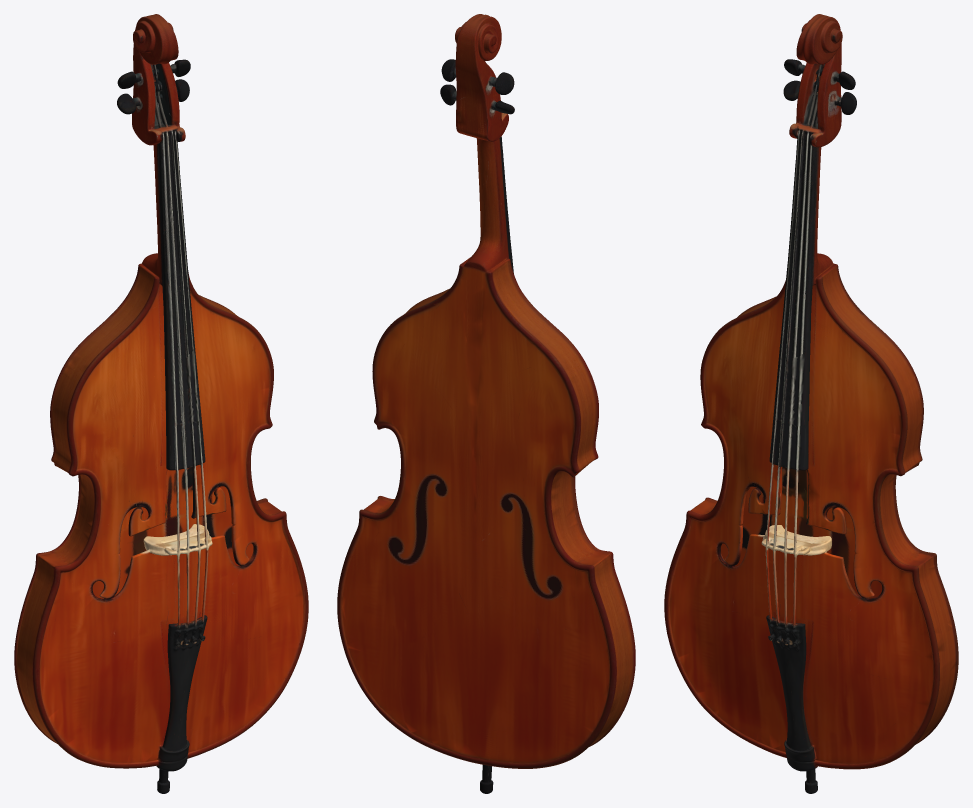
File: DoubleBass.fbx
3 renders of one model, left to right at view 1: azimuth 30°, elevation 25°; view 2: azimuth 150°, elevation 25°; view 3: azimuth 330°, elevation 25°, orthographic.
Visible parts, largest first — view 1: Mesh_0; view 2: Mesh_0; view 3: Mesh_0.
Boxes of the visible parts, x1,y1,x2,y2 form: Mesh_0: (14,14,308,793); Mesh_0: (337,14,635,793); Mesh_0: (664,14,958,793).
Size of the model in its own units: 71.15 by 190 by 23.07.
1 material, 1 textured.
